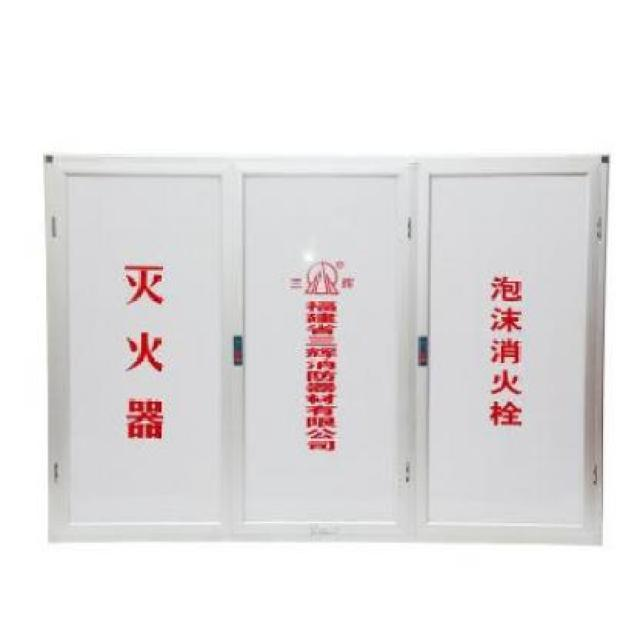firehydrant: (37, 149, 613, 551)
